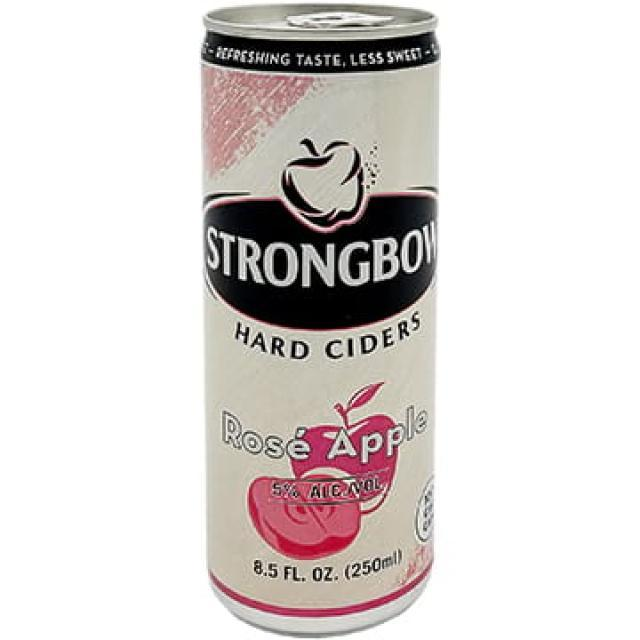can: (202, 2, 439, 635)
